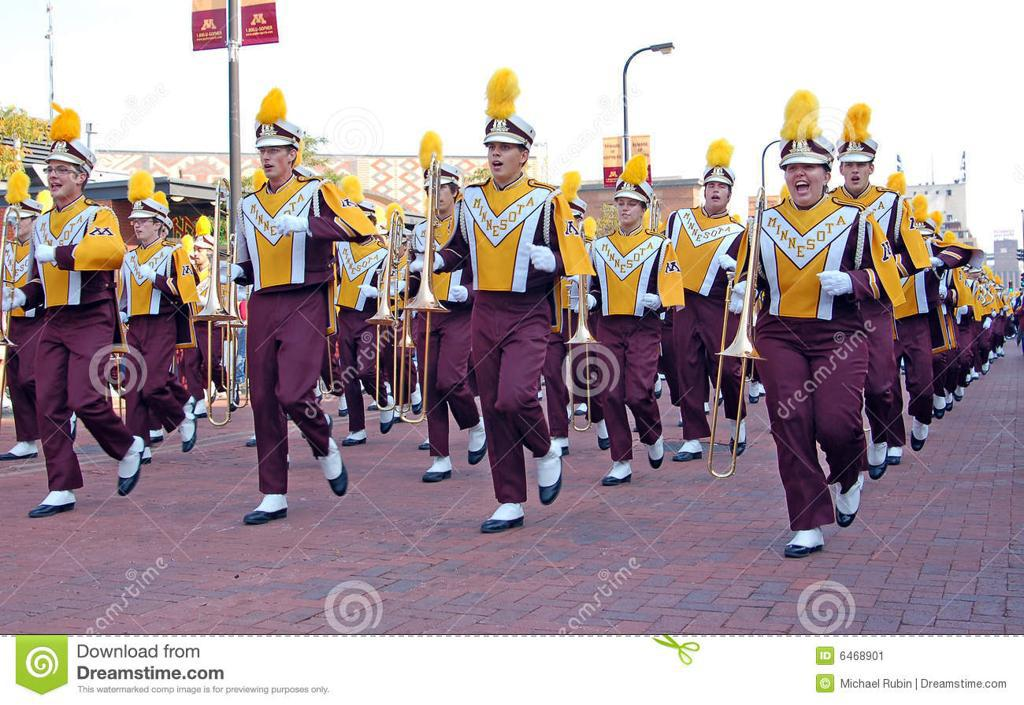face: (784, 153, 824, 207), (487, 138, 521, 179), (47, 158, 77, 198), (259, 142, 288, 178), (843, 156, 870, 193), (425, 180, 452, 212), (617, 193, 641, 225), (706, 178, 728, 209), (133, 213, 154, 240), (9, 214, 31, 238), (193, 245, 206, 266)
